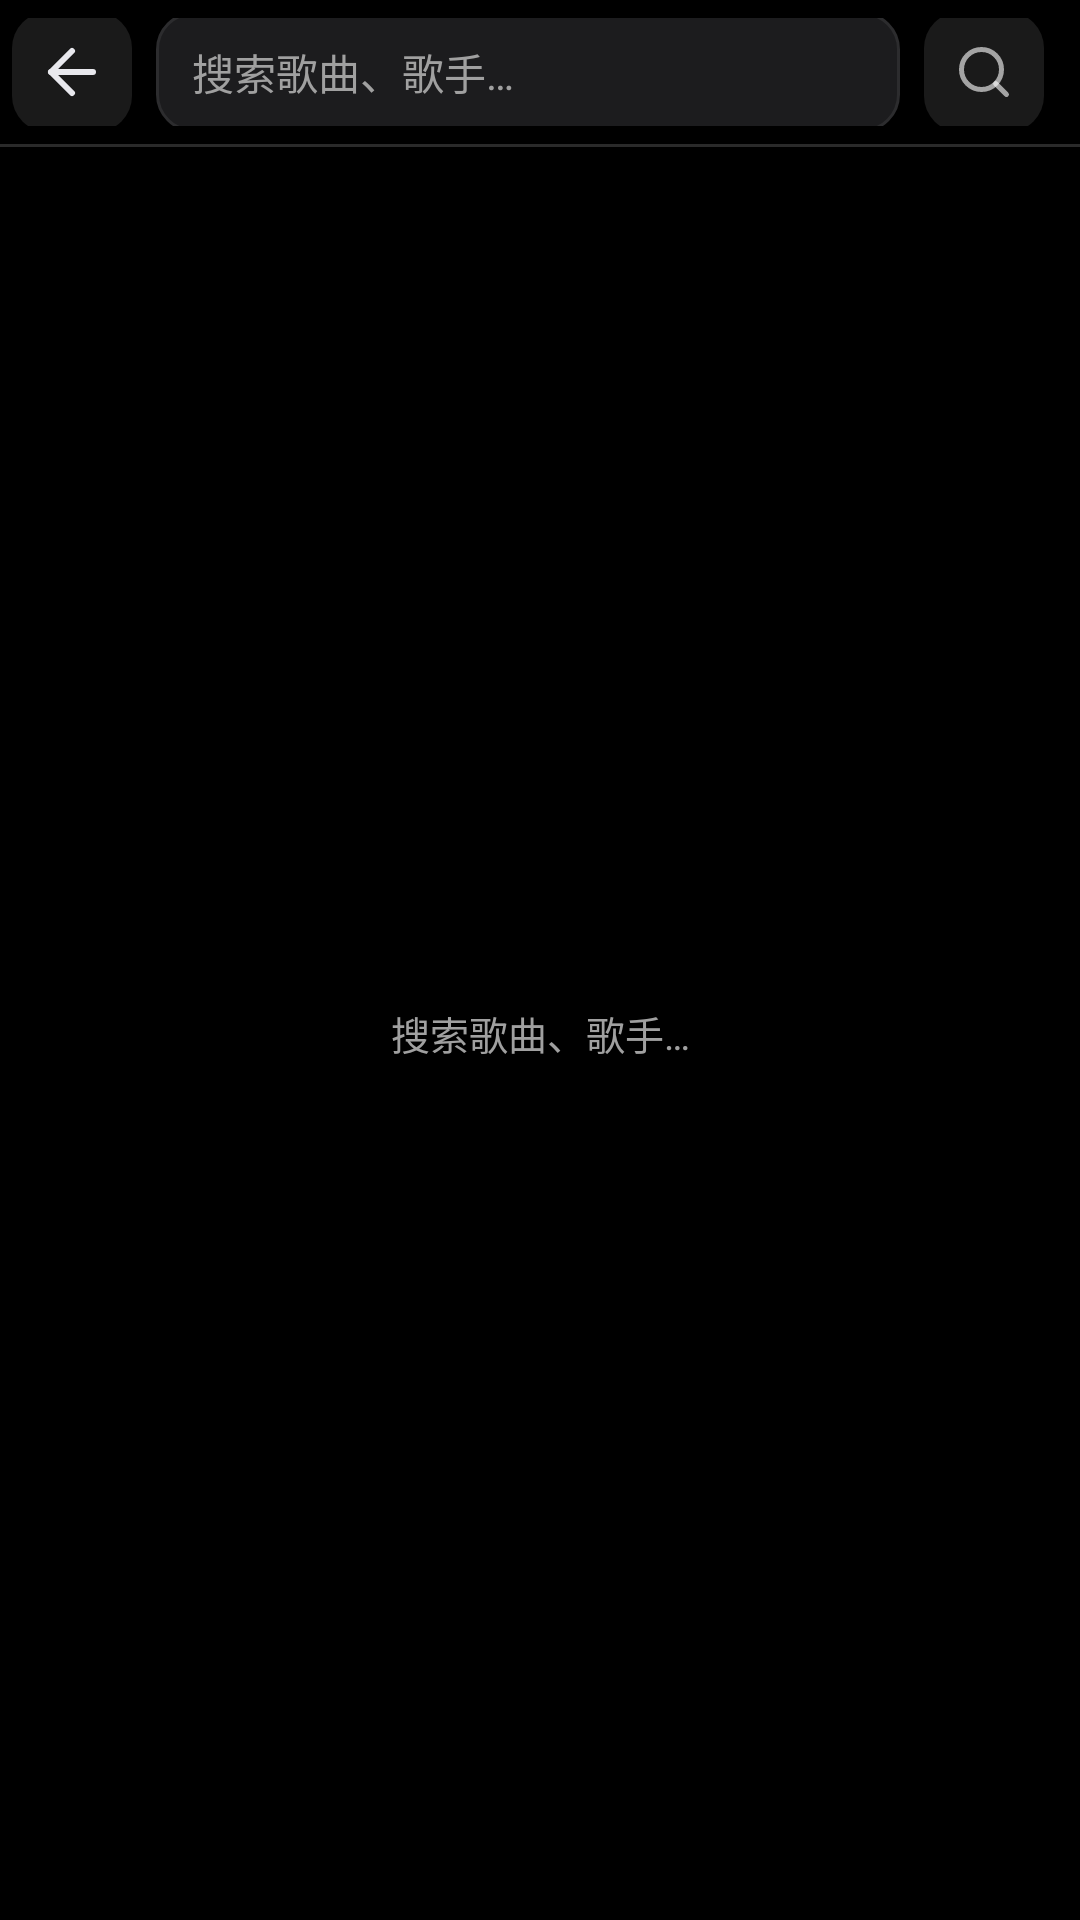

Where to tap for icons on this 1080 × 1920 app screen, as (x,y):
← 返回: (72,72)
